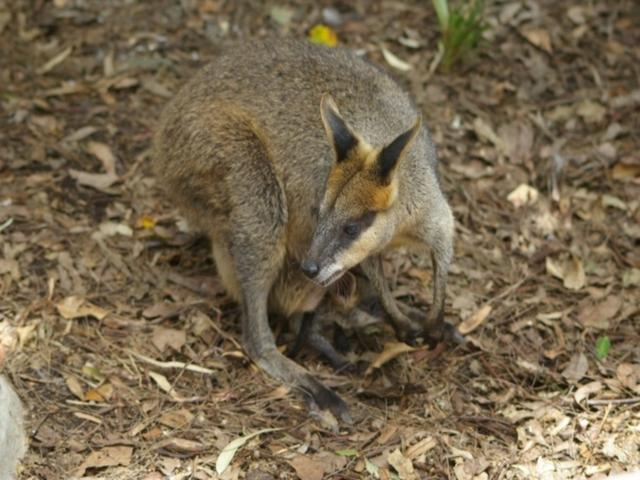kangaroo: (94, 38, 513, 429)
